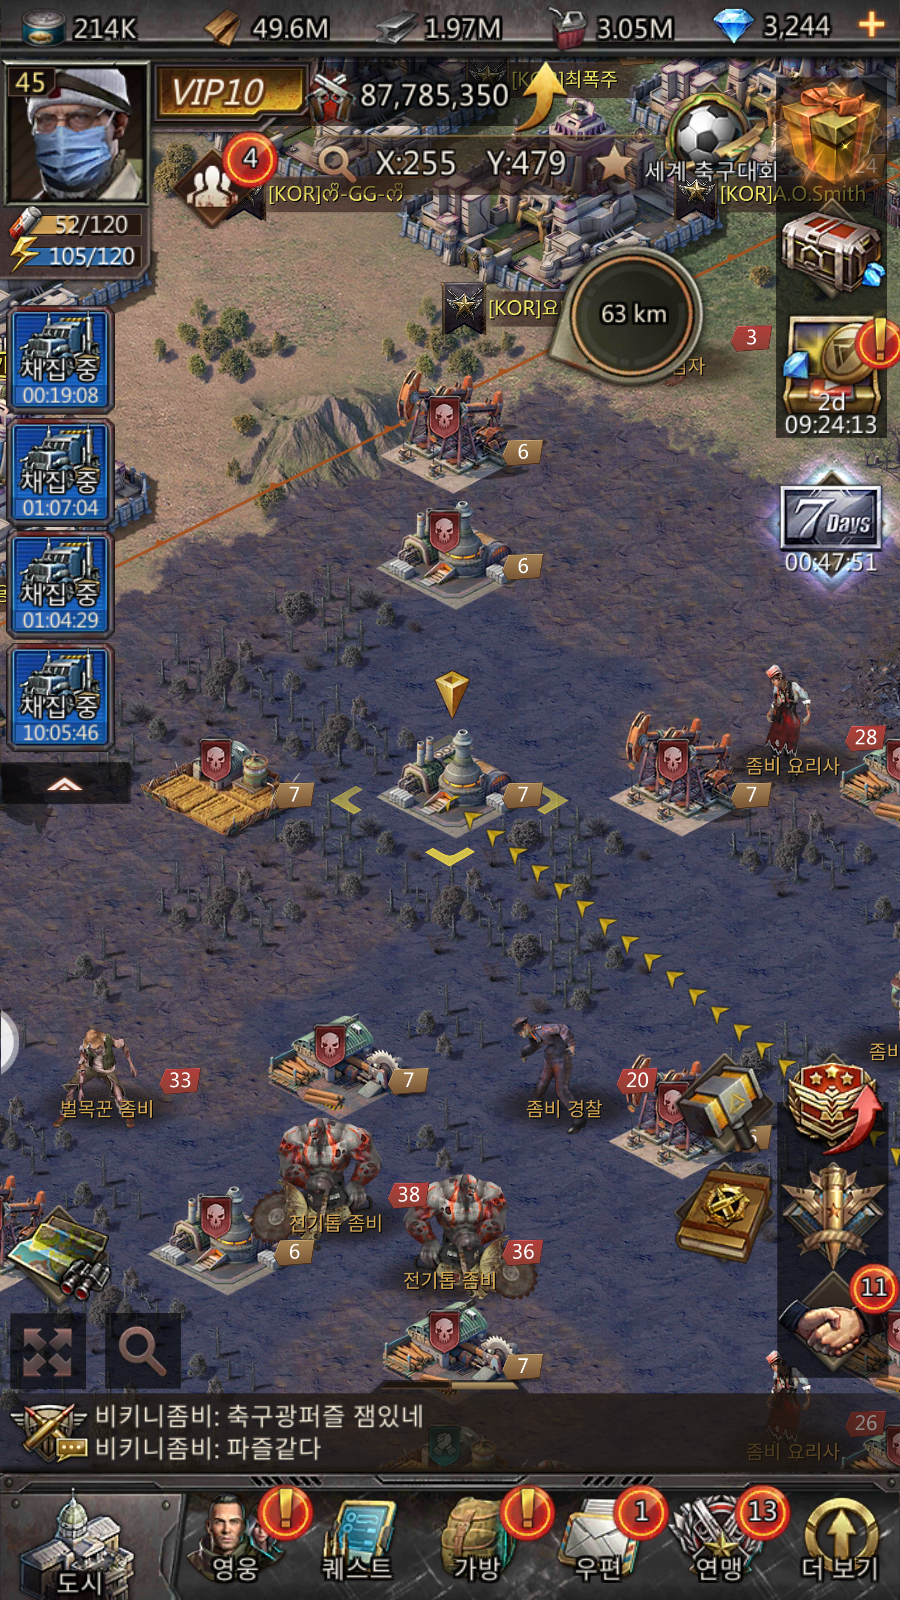city: (4, 1489, 182, 1600)
occupied_steel: (320, 660, 582, 896)
open_panel: (91, 1293, 204, 1407)
troops_cnt_4: (164, 122, 291, 256)
